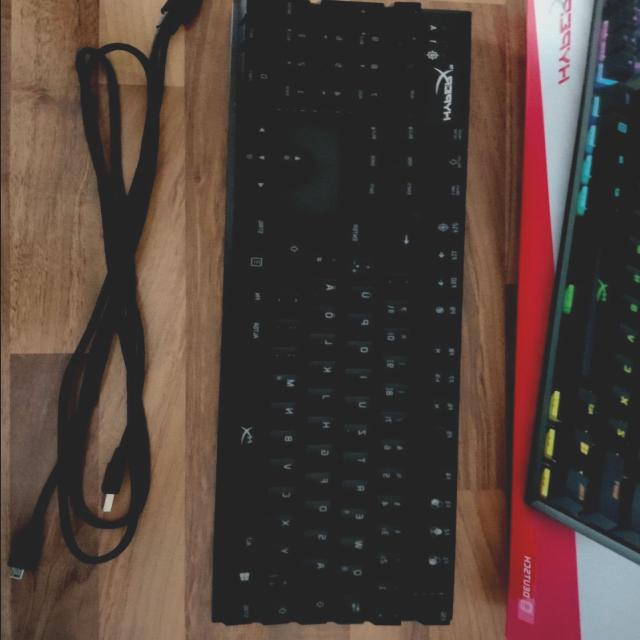0: (383, 327, 415, 349)
1: (375, 580, 407, 601)
2: (376, 551, 408, 573)
3: (378, 524, 410, 545)
4: (378, 495, 410, 516)
5: (379, 466, 411, 488)
6: (381, 439, 413, 461)
7: (381, 411, 413, 433)
8: (381, 383, 413, 405)
9: (382, 355, 414, 377)
a: (302, 557, 332, 579)
accent: (385, 274, 416, 294)
ae: (312, 279, 342, 300)
alt-left: (227, 530, 259, 558)
altgr-right: (235, 319, 267, 347)
b: (270, 430, 300, 452)
c: (268, 486, 298, 508)
caret: (374, 608, 405, 628)
comma: (272, 348, 302, 368)
d: (304, 501, 334, 522)
del: (387, 217, 419, 265)
e: (342, 508, 372, 529)
enter: (314, 217, 380, 251)
f: (306, 473, 334, 493)
g: (307, 444, 335, 465)
h: (308, 417, 338, 438)
hash: (314, 251, 344, 272)
i: (345, 369, 375, 389)
j: (308, 389, 338, 409)
k: (309, 361, 339, 382)
keyboard: (205, 0, 477, 636), (525, 0, 640, 612)
l: (310, 334, 340, 355)
less: (264, 572, 295, 594)
m: (272, 374, 302, 396)
minus: (275, 292, 304, 312)
n: (271, 402, 301, 424)
o: (346, 341, 376, 362)
oe: (310, 306, 340, 327)
p: (347, 313, 377, 334)
plus: (349, 259, 379, 279)
point: (275, 320, 303, 340)
q: (339, 564, 369, 586)
r: (342, 479, 372, 501)
s: (304, 529, 334, 550)
shift-left: (263, 601, 293, 627)
shift-lock: (300, 586, 331, 626)
shift-right: (276, 215, 306, 285)
space: (227, 354, 264, 523)
ss: (384, 300, 415, 322)
strg-left: (226, 600, 256, 628)
strg-right: (239, 213, 271, 243)
t: (343, 452, 373, 472)
tab: (338, 593, 368, 626)
u: (344, 396, 374, 418)
ue: (347, 286, 377, 307)
v: (269, 458, 299, 479)
w: (340, 536, 371, 558)
x: (266, 515, 297, 536)
y: (265, 543, 295, 565)
z: (344, 424, 374, 446)
